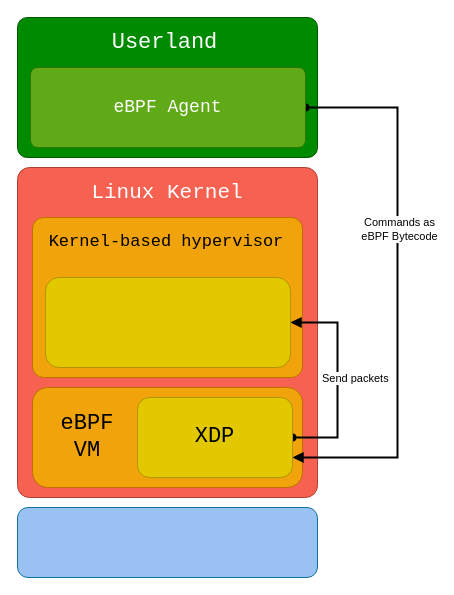
This 454x595 diagram has some shape labels left out. The box of each missing label's shape, as (x1, y1, x2, y2) in pixels:
Hardware: (16, 506, 318, 578)
VM containing Rootkit: (44, 276, 290, 368)
